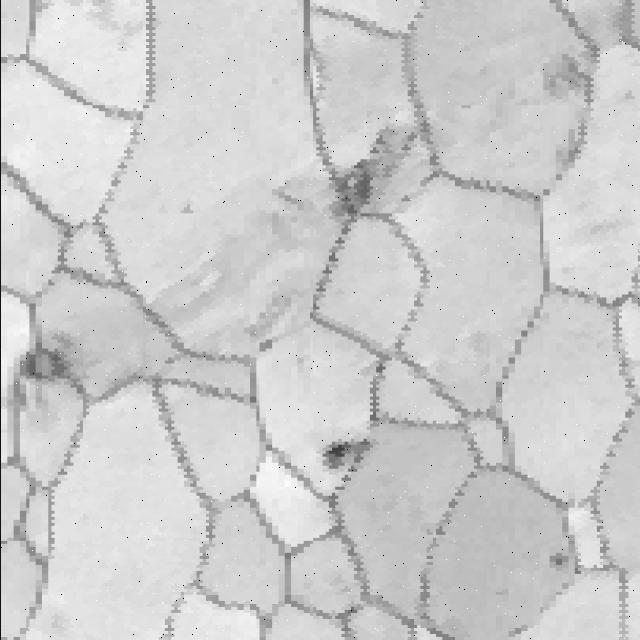good_void: (340, 123, 422, 214), (15, 340, 70, 390), (540, 54, 591, 106), (319, 436, 363, 471), (170, 197, 198, 221), (244, 334, 280, 352), (545, 550, 568, 574)
